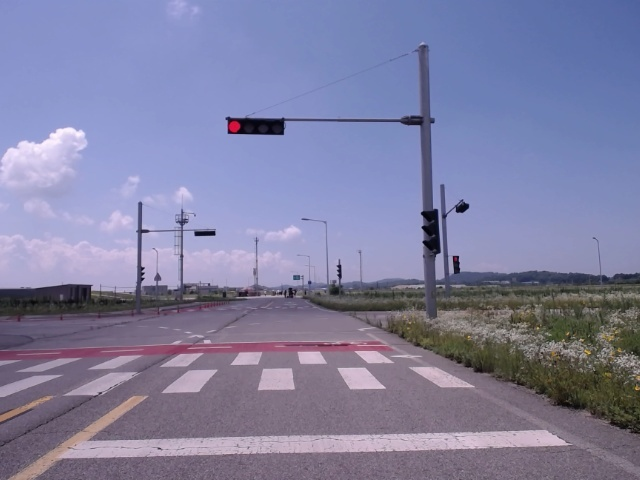red_4: (228, 117, 284, 135)
